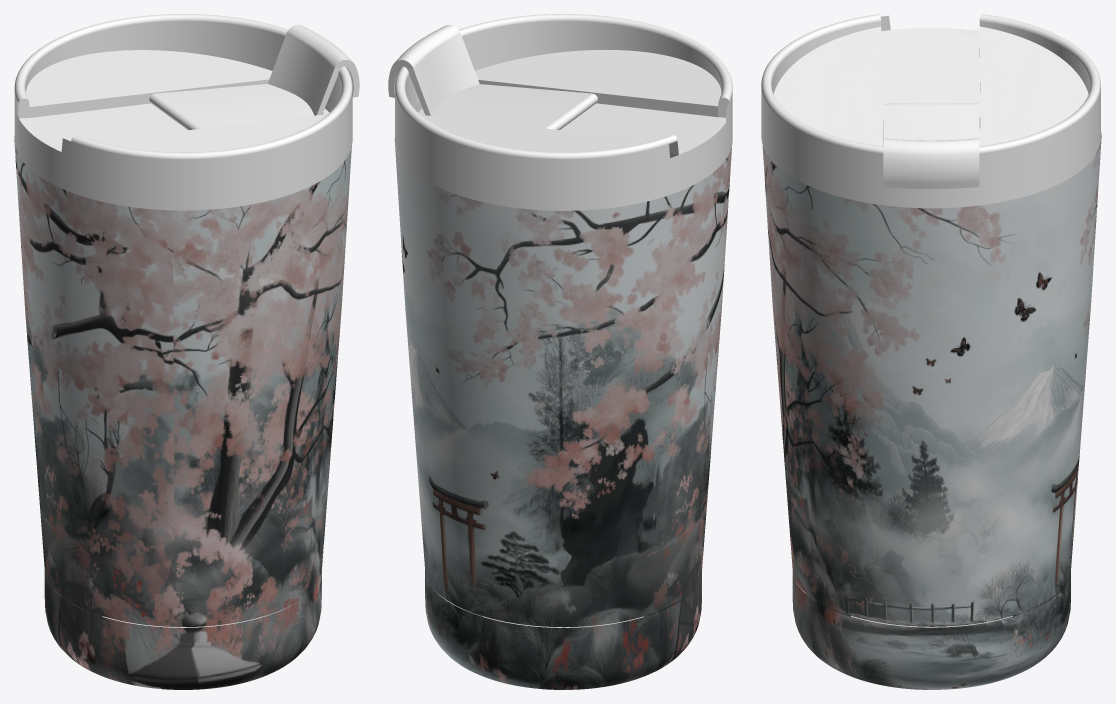
The model's file is mug-350.glb.
The picture shows the model from 3 angles, left to right: view 1: azimuth 30°, elevation 25°; view 2: azimuth 150°, elevation 25°; view 3: azimuth 270°, elevation 25°; orthographic projection.
Parts seen in each view (by area): view 1: Body, Lid; view 2: Body, Lid; view 3: Body, Lid.
Boxes of the visible parts, <box> form: Body: <box>14,136,351,689</box>; Lid: <box>14,14,359,210</box>; Body: <box>394,137,731,689</box>; Lid: <box>388,14,732,210</box>; Body: <box>762,132,1101,689</box>; Lid: <box>761,14,1100,208</box>.
Bounding box in the file's own units: 0.5359 × 0.9646 × 0.5199.
Materials: 3 (1 with a texture image).
